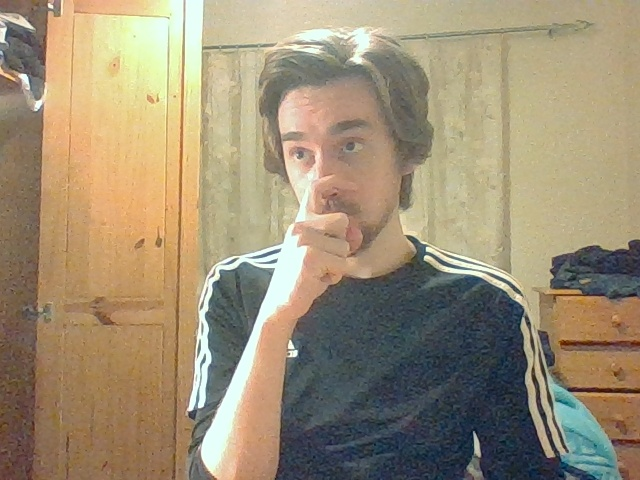sister: (287, 175, 365, 296)
